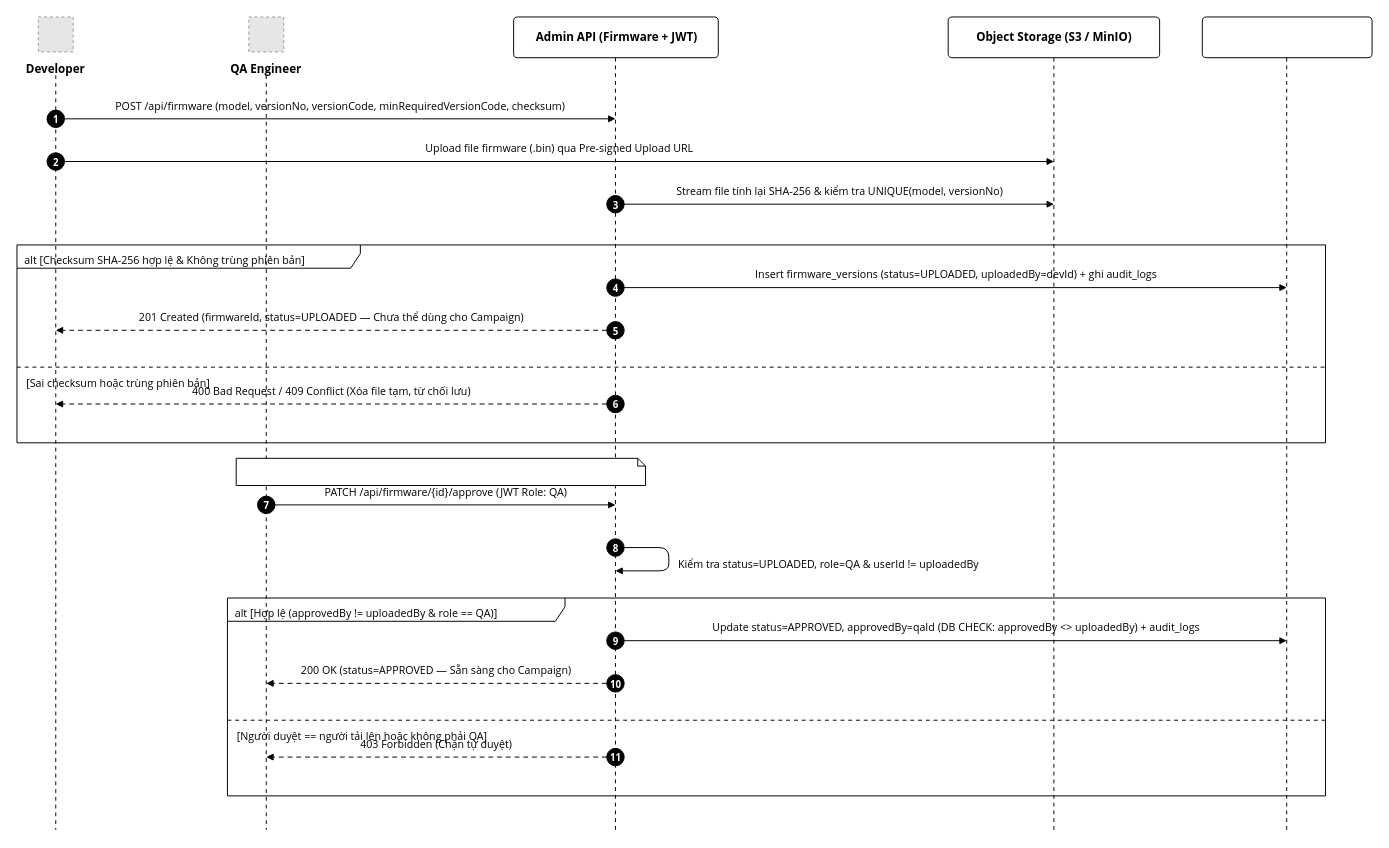
Some shapes in this 1389 by 848 pixel diagram are drawn without their labels. Grey dashed boxes stand in for pictures. Here are the shapes that lost their labels. From the top down, the centre of each, then its label:
the point at 1286,37: PostgreSQL Database
the point at 440,471: Nguyên tắc 4-Mắt (Four-Eyes): QA phê duyệt != Developer tải lên
